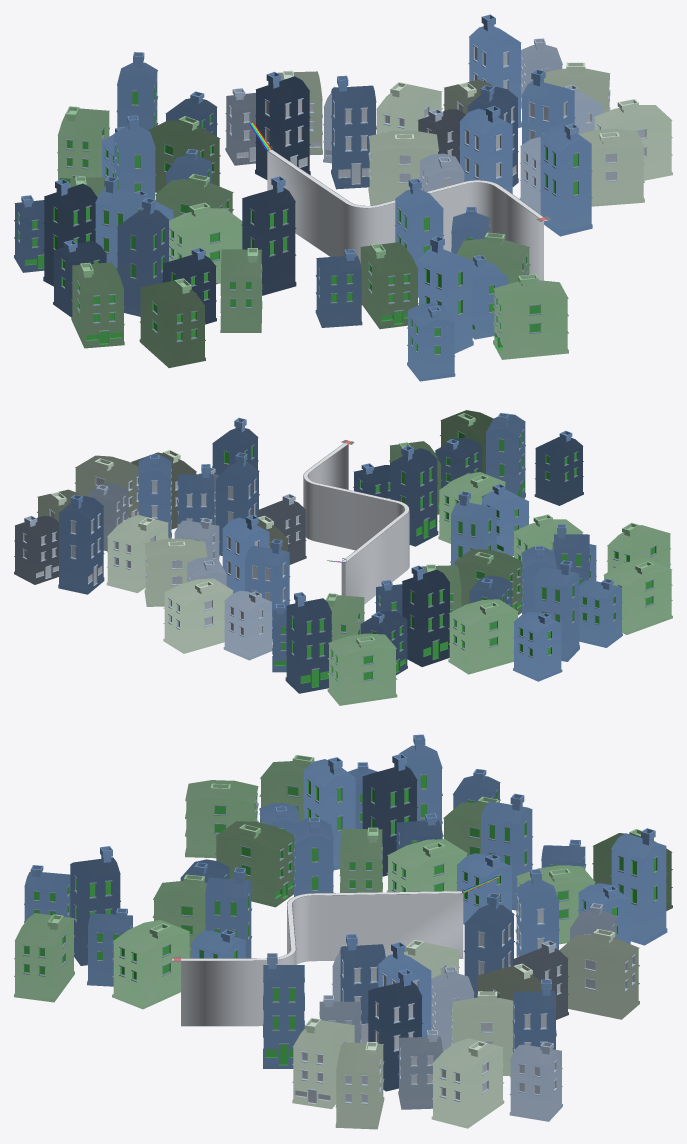
Rendered from environment_ve_platform.fbx.
The picture shows the model from 3 angles, top to bottom: view 1: azimuth 30°, elevation 25°; view 2: azimuth 150°, elevation 25°; view 3: azimuth 270°, elevation 25°; orthographic projection. The views are drawn at different scales.
Parts seen in each view (by area): view 1: Cube, Building_1.045, Building_1.001, Building_1.037, Building_1.033, Building_1.047, Building_1.010, Building_1.039, Building_1.036, Building_1.022, Building_1.002, Building_1.044 (+37 smaller); view 2: Cube, Building_1.049, Building_1.025, Building_1.027, Building_1.048, Building_1.016, Building_1.051, Building_1.041, Building_1.022, Building_1.014, Building_1.024, Building_1.038 (+38 smaller); view 3: Cube, Building_1.048, Building_1.042, Building_1.017, Building_1.051, Building_1.034, Building_1.045, Building_1.037, Building_1.001, Building_1.002, Building_1.020, Building_1.019 (+39 smaller).
Boxes of the visible parts, <box> form: Cube: <box>267,149,550,280</box>; Building_1.045: <box>493,274,568,359</box>; Building_1.001: <box>539,123,592,236</box>; Building_1.037: <box>139,278,205,367</box>; Building_1.033: <box>241,176,296,295</box>; Building_1.047: <box>255,71,310,179</box>; Building_1.010: <box>331,75,376,189</box>; Building_1.039: <box>360,242,418,329</box>; Building_1.036: <box>116,197,169,316</box>; Building_1.022: <box>71,262,124,348</box>; Building_1.002: <box>579,128,644,206</box>; Building_1.044: <box>418,236,473,353</box>; Cube: <box>303,440,409,604</box>; Building_1.049: <box>327,633,397,705</box>; Building_1.025: <box>448,599,518,674</box>; Building_1.027: <box>401,565,450,666</box>; Building_1.048: <box>163,578,233,653</box>; Building_1.016: <box>58,494,104,594</box>; Building_1.051: <box>285,592,332,693</box>; Building_1.041: <box>389,445,438,546</box>; Building_1.022: <box>603,558,672,634</box>; Building_1.014: <box>106,515,169,593</box>; Building_1.024: <box>534,560,579,661</box>; Building_1.038: <box>534,430,583,505</box>; Cube: <box>172,891,463,1026</box>; Building_1.048: <box>559,929,639,1019</box>; Building_1.042: <box>112,920,190,1009</box>; Building_1.017: <box>431,1038,504,1128</box>; Building_1.051: <box>610,828,667,945</box>; Building_1.034: <box>215,821,293,907</box>; Building_1.045: <box>14,913,74,1002</box>; Building_1.037: <box>185,780,258,858</box>; Building_1.001: <box>263,953,304,1068</box>; Building_1.002: <box>292,1017,355,1109</box>; Building_1.020: <box>335,1041,384,1129</box>; Building_1.019: <box>367,969,422,1091</box>.
Bounding box in the file's own units: 142174 × 22773 × 127016.
3 materials, 3 textured.
